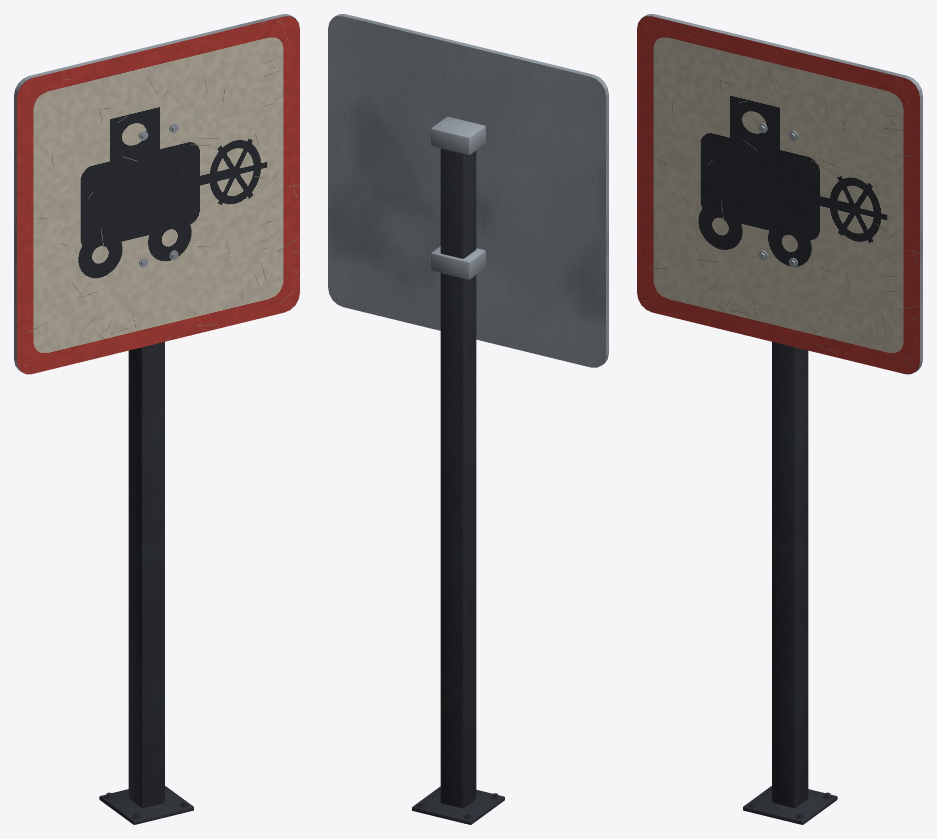
The model's file is beware_bots_sign.glb.
3 views of the same model, side by side, from view 1: azimuth 30°, elevation 25°; view 2: azimuth 150°, elevation 25°; view 3: azimuth 330°, elevation 25° (orthographic).
Visible parts, largest first — view 1: BewareBotsSignMesh; view 2: BewareBotsSignMesh; view 3: BewareBotsSignMesh.
Part boxes in pixels (bbox=[...]): BewareBotsSignMesh: bbox=[14, 14, 299, 824]; BewareBotsSignMesh: bbox=[328, 14, 608, 824]; BewareBotsSignMesh: bbox=[637, 14, 922, 824].
Size of the model in its own units: 0.56 by 1.45 by 0.12.
Materials: 3 (3 with a texture image).
